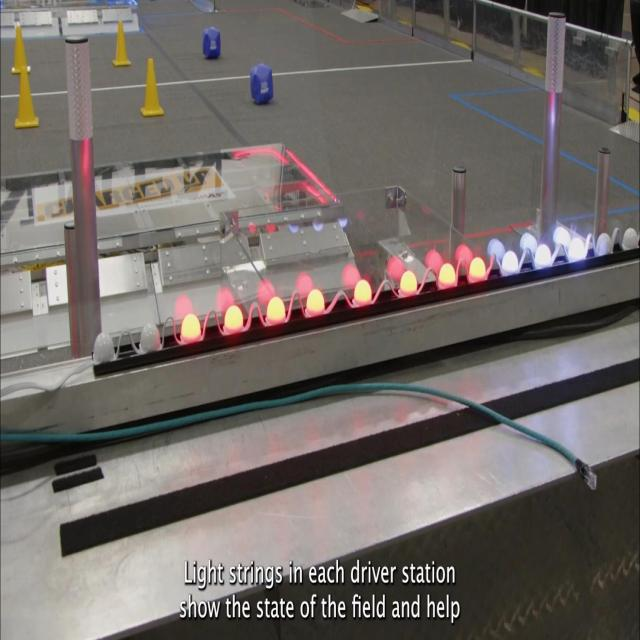frc_cone: (12, 68, 38, 130), (139, 56, 164, 120), (10, 27, 32, 78), (110, 20, 132, 70)
frc_cube: (249, 63, 275, 108), (201, 27, 221, 59)
